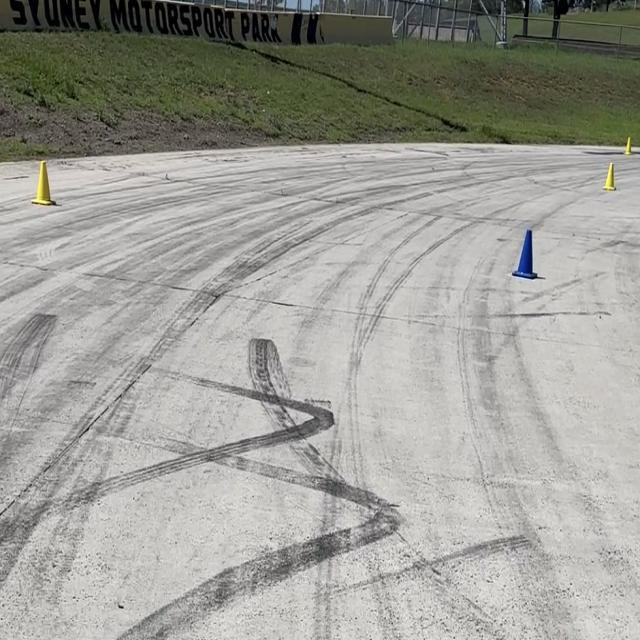blue_cone: (508, 226, 544, 286)
yellow_cone: (30, 150, 57, 212), (602, 161, 619, 194), (622, 132, 634, 159)
